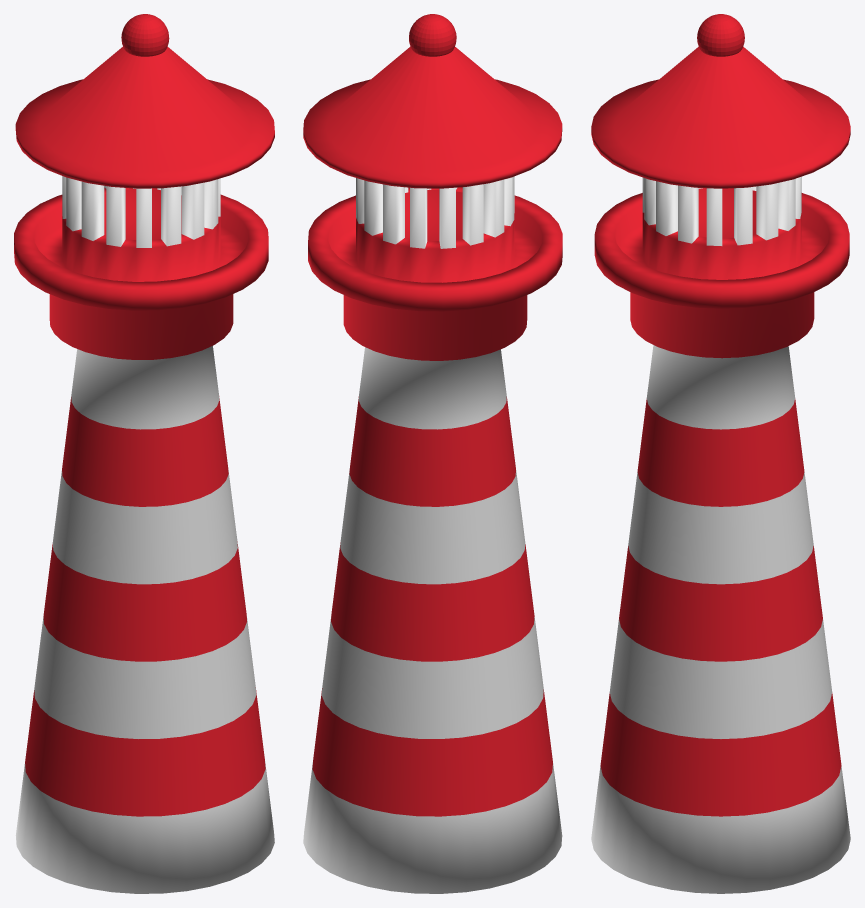
The model's file is phare.glb.
3 renders of one model, left to right at view 1: azimuth 30°, elevation 25°; view 2: azimuth 150°, elevation 25°; view 3: azimuth 270°, elevation 25°, orthographic.
Parts seen in each view (by area): view 1: Cylindre, Cylindre.001, Sphère; view 2: Cylindre, Cylindre.001, Sphère; view 3: Cylindre, Cylindre.001, Sphère.
Boxes of the visible parts, <box> form: Cylindre: <box>14,176,274,893</box>; Cylindre.001: <box>15,46,274,188</box>; Sphère: <box>121,14,169,56</box>; Cylindre: <box>303,176,562,893</box>; Cylindre.001: <box>303,46,562,188</box>; Sphère: <box>409,14,456,56</box>; Cylindre: <box>591,176,850,893</box>; Cylindre.001: <box>591,46,850,188</box>; Sphère: <box>697,14,744,56</box>.
Bounding box in the file's own units: 2.01 × 7 × 2.
